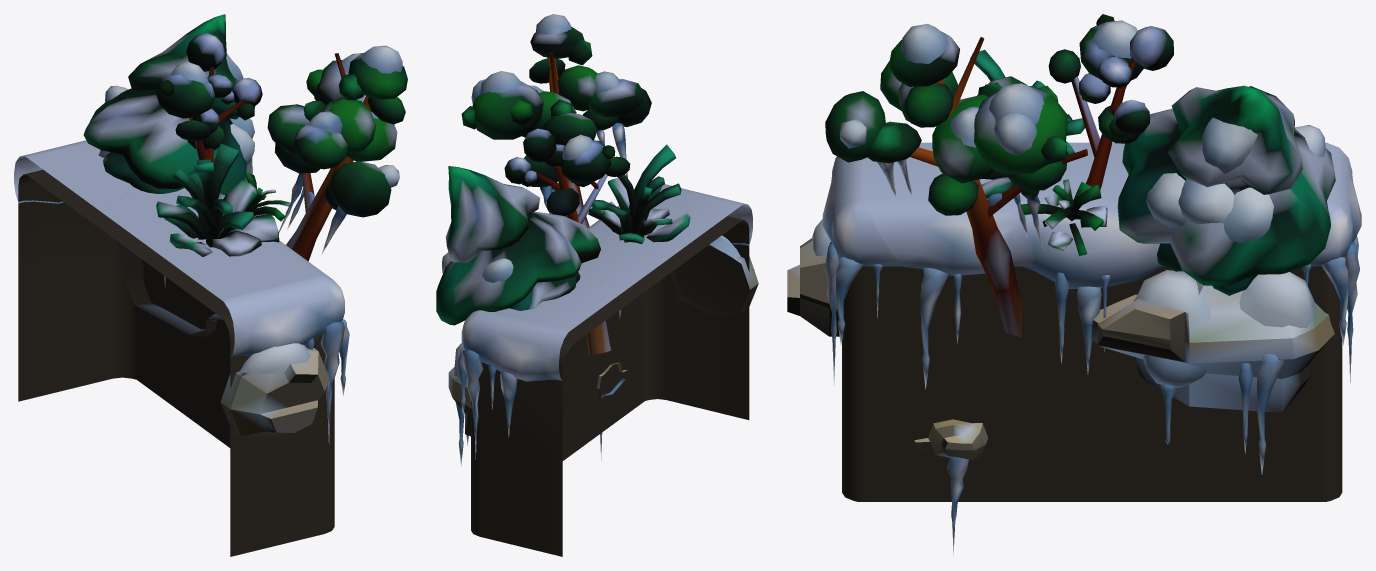
The model's file is Island_02.fbx.
3 renders of one model, left to right at view 1: azimuth 30°, elevation 25°; view 2: azimuth 150°, elevation 25°; view 3: azimuth 270°, elevation 25°, orthographic. The views are drawn at different scales.
Visible parts, largest first — view 1: Island_02; view 2: Island_02; view 3: Island_02.
Boxes of the visible parts, bbox=[...] form: Island_02: bbox=[14, 14, 407, 556]; Island_02: bbox=[436, 14, 758, 556]; Island_02: bbox=[787, 14, 1361, 554].
Size of the model in its own units: 4409 by 8264 by 7574.
